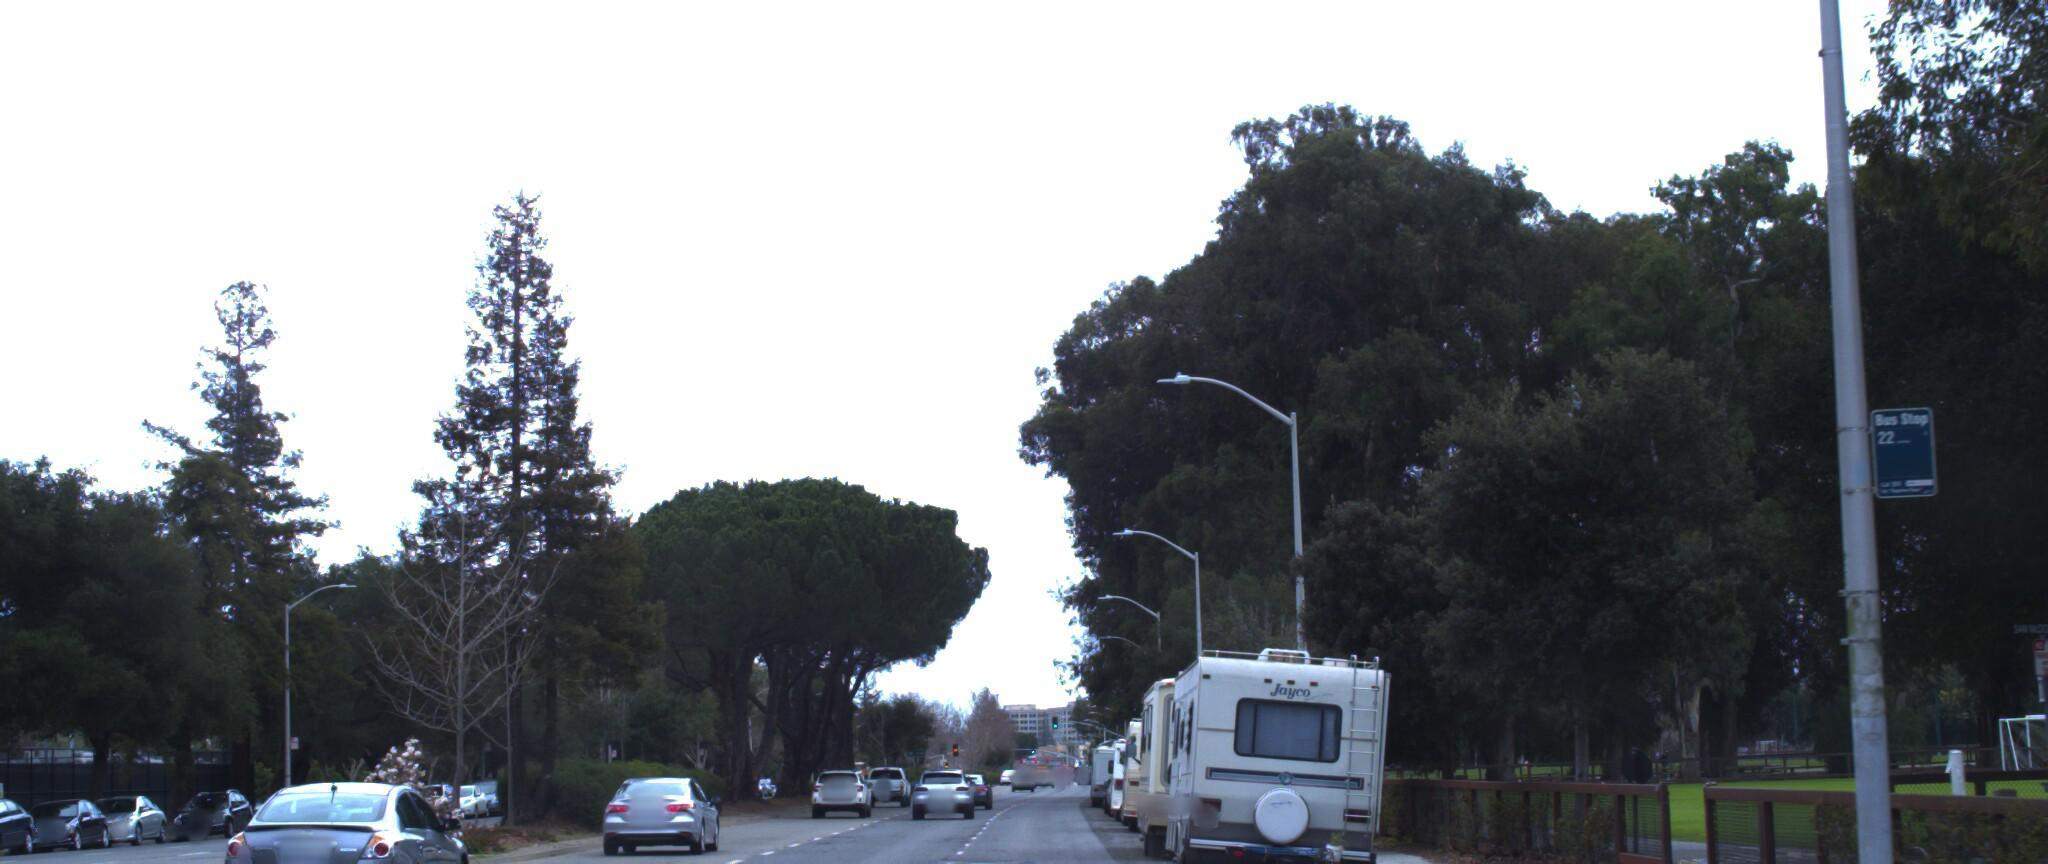car: (213, 758, 478, 864), (600, 754, 718, 838)
other_vehicle: (1148, 626, 1401, 864), (1126, 638, 1297, 847), (1112, 692, 1226, 814)
